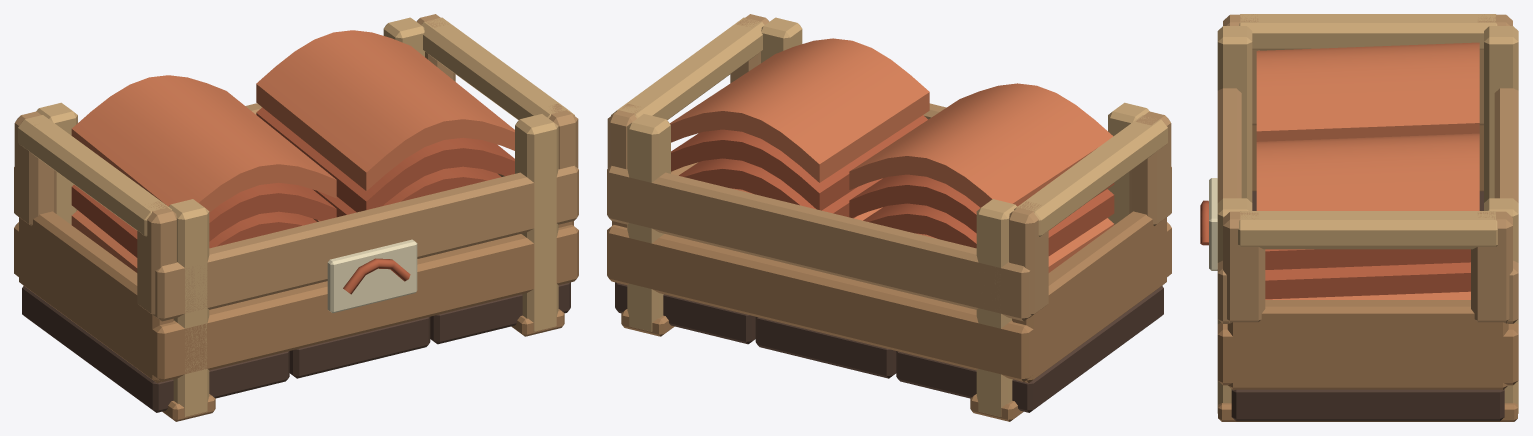
The model's file is goods_tiles_terracotta_crate.glb.
The picture shows the model from 3 angles, left to right: view 1: azimuth 30°, elevation 25°; view 2: azimuth 150°, elevation 25°; view 3: azimuth 270°, elevation 25°; orthographic projection.
Visible parts, largest first — view 1: goods_tiles_terracotta_crate; view 2: goods_tiles_terracotta_crate; view 3: goods_tiles_terracotta_crate.
Part boxes in pixels (x1,y1,x2,y2): goods_tiles_terracotta_crate: [14, 14, 578, 421]; goods_tiles_terracotta_crate: [607, 14, 1171, 421]; goods_tiles_terracotta_crate: [1200, 14, 1518, 421].
Size of the model in its own units: 0.654 by 0.329 by 0.4135.
